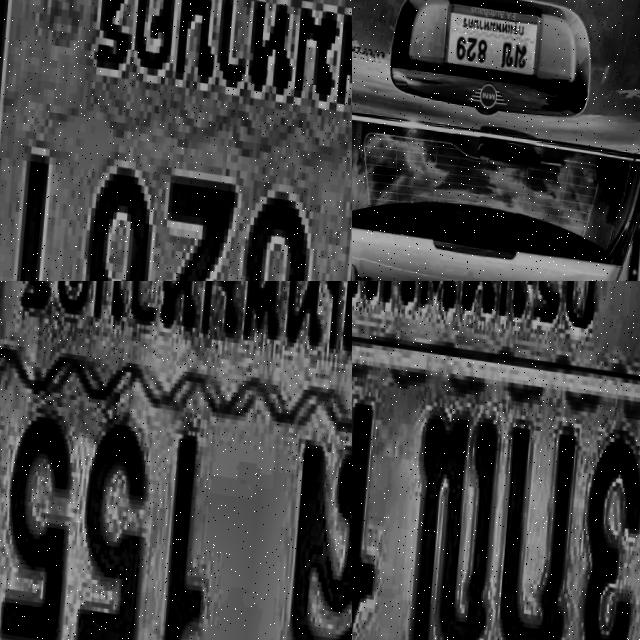license-plate: (0, 281, 352, 640), (352, 281, 640, 640), (0, 0, 352, 281), (441, 0, 544, 77)
